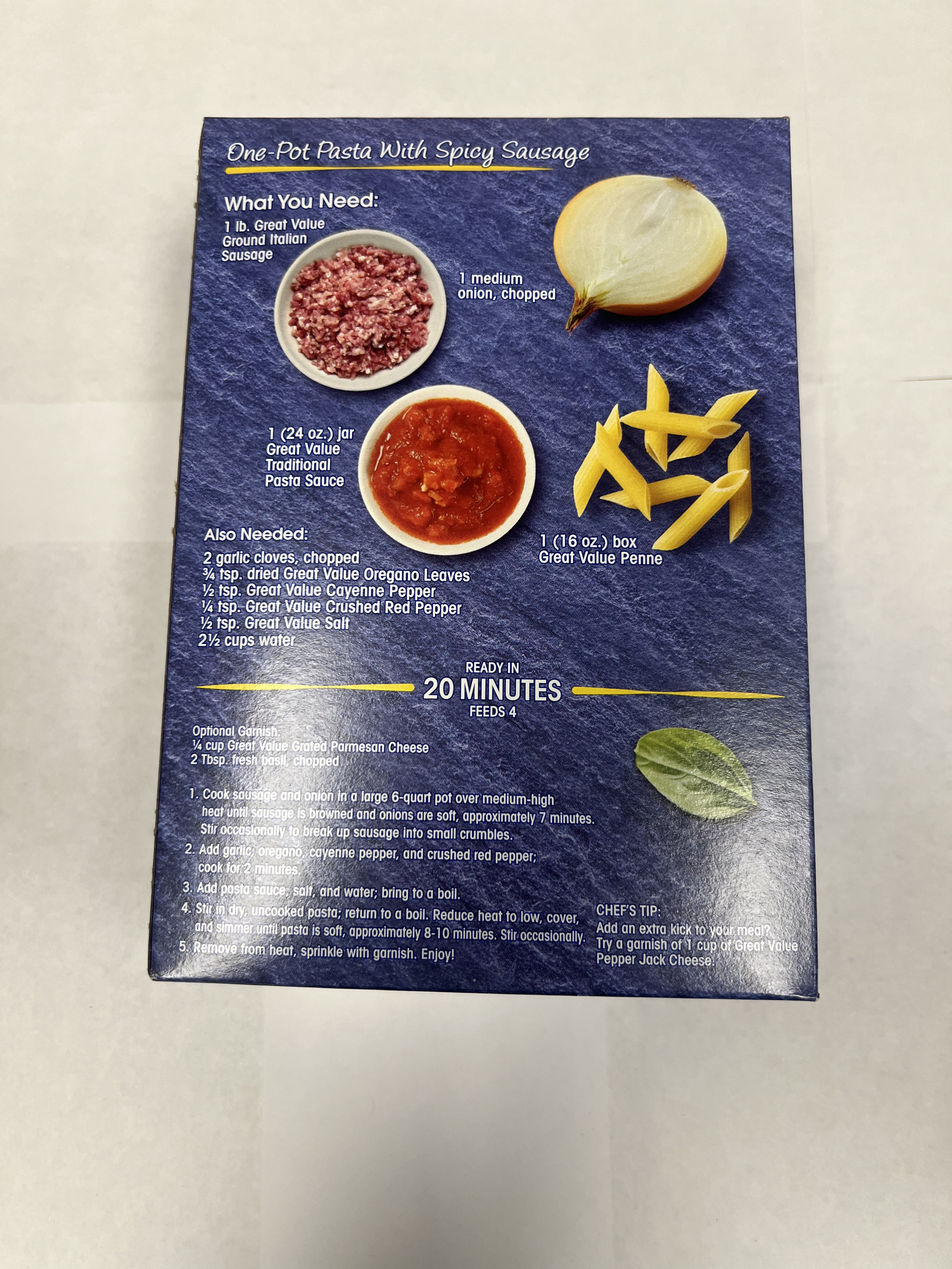packaged: (136, 107, 827, 1010)
